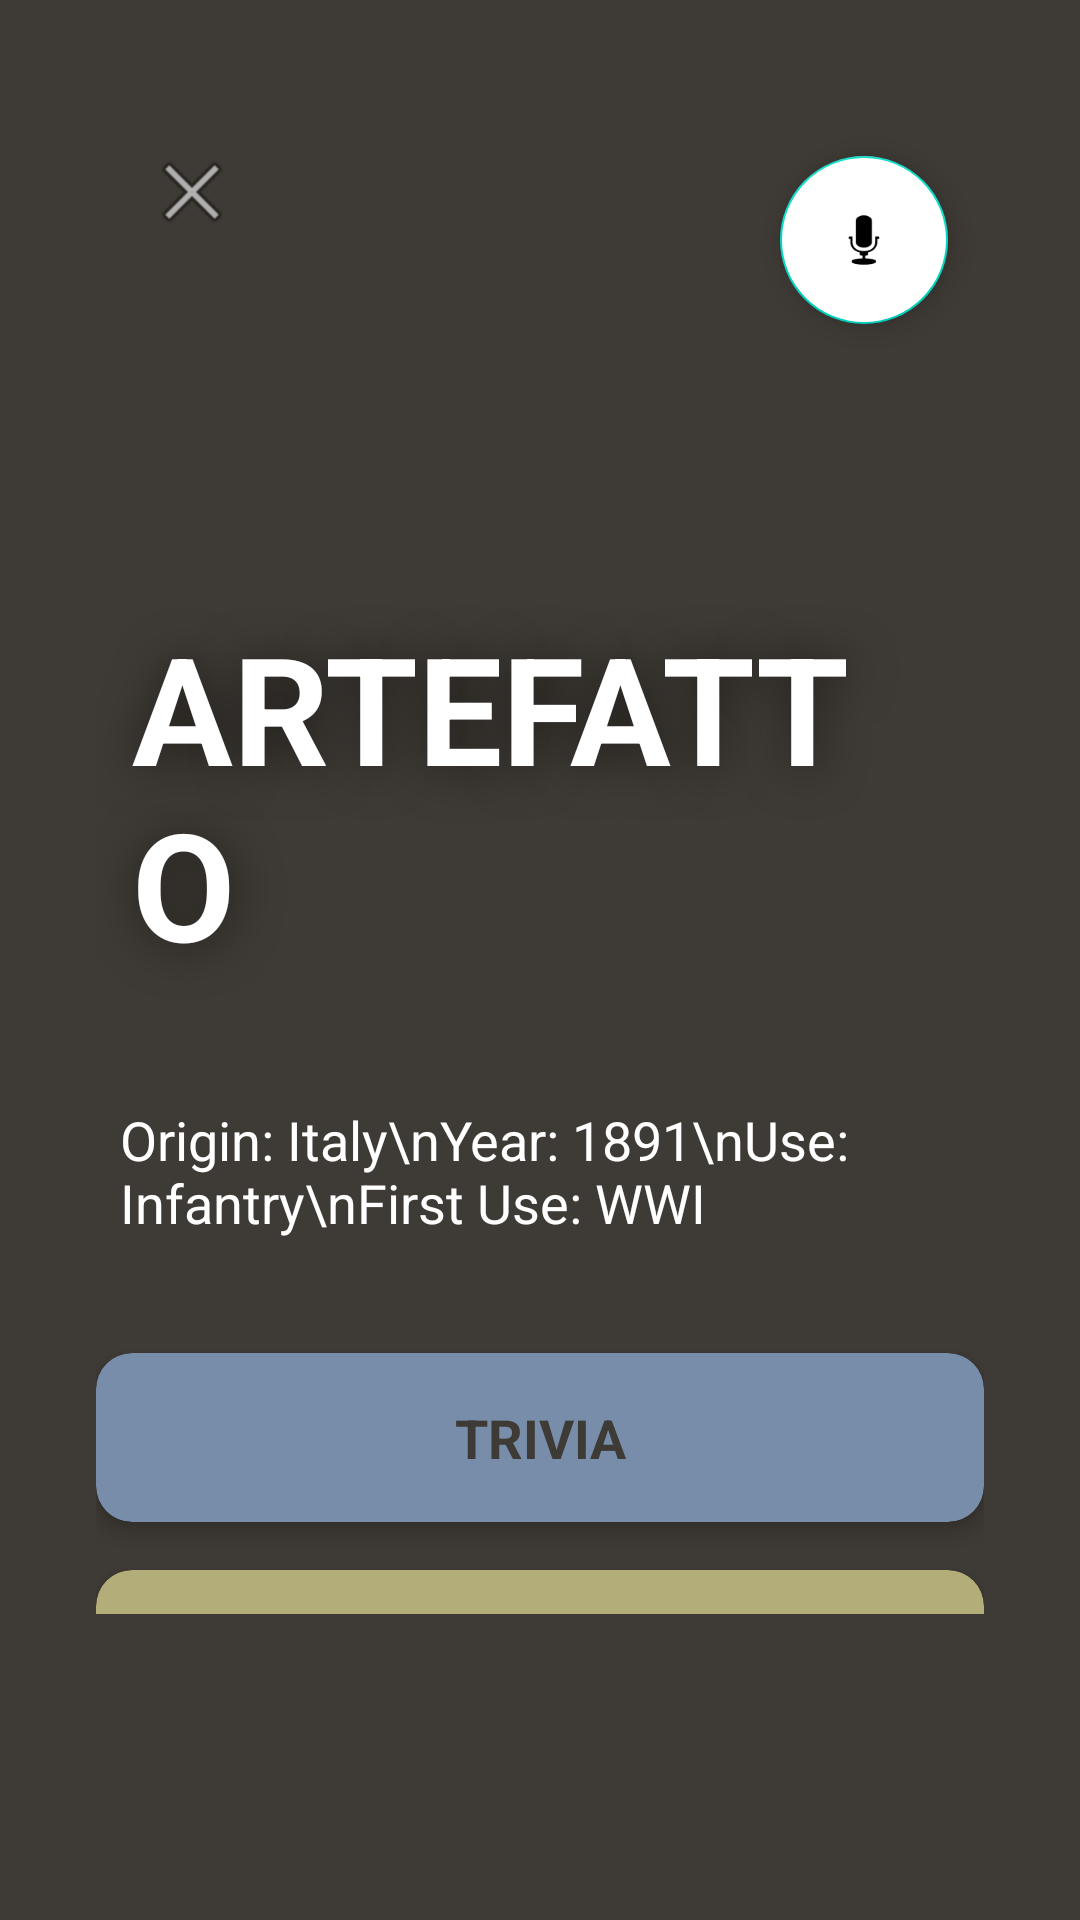

Icon click points for this 1080×1920 phone screenshot, format (x,y):
Chiudi: (192,192)
